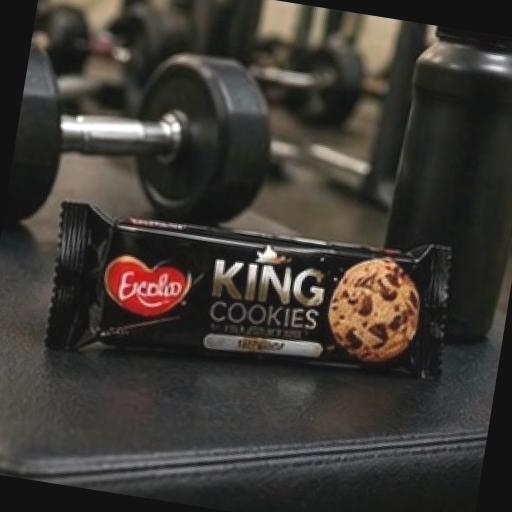king-cooking: (5, 124, 500, 476)
